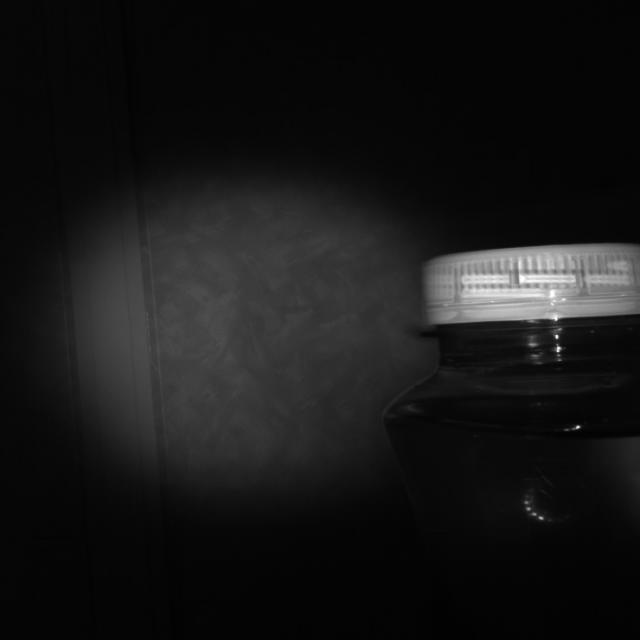Good: (415, 239, 640, 329)
